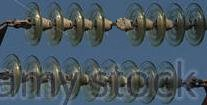gap: (86, 2, 147, 50)
